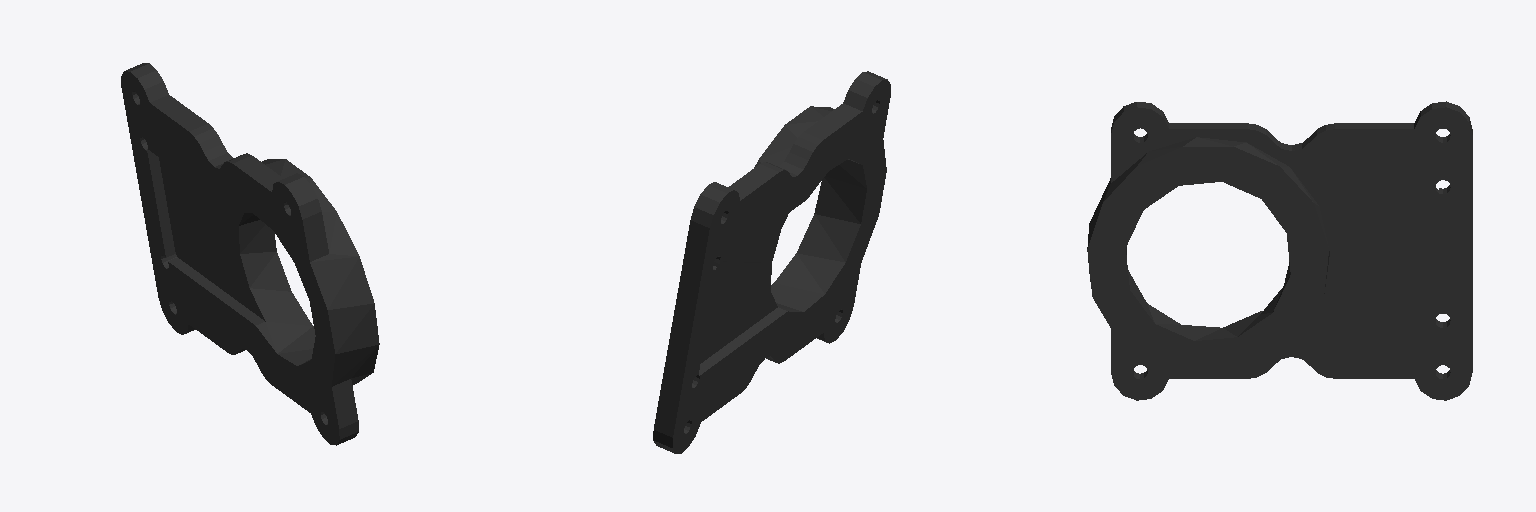
Rendered from roki_Robot_Football_Player_SKS_2501_Servov12_10_v1_1_mesh_0.obj.
3 renders of one model, left to right at view 1: azimuth 30°, elevation 25°; view 2: azimuth 150°, elevation 25°; view 3: azimuth 270°, elevation 25°, orthographic.
Bounding box in the file's own units: 0.0129 × 0.0399 × 0.0507.